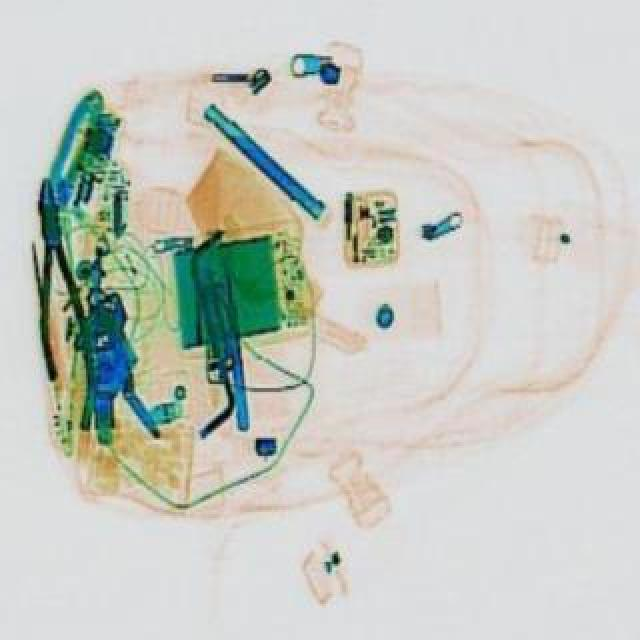wrench: (24, 180, 108, 440)
